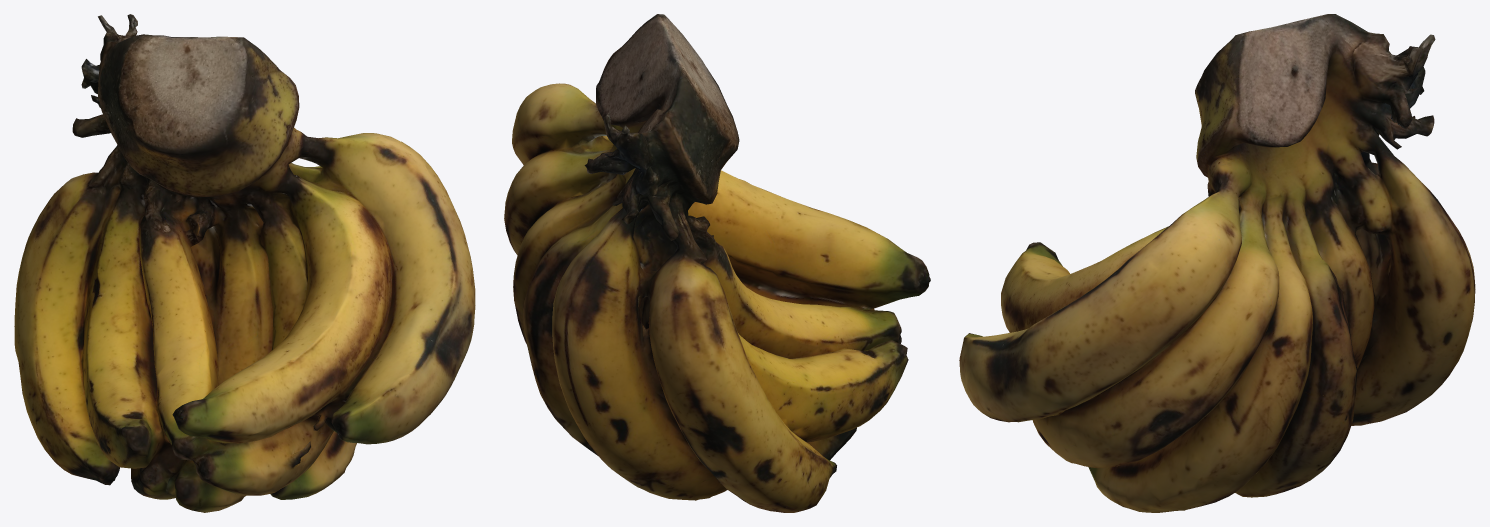
Rendered from banana.glb.
3 renders of one model, left to right at view 1: azimuth 30°, elevation 25°; view 2: azimuth 150°, elevation 25°; view 3: azimuth 270°, elevation 25°, orthographic. The views are drawn at different scales.
Visible parts, largest first — view 1: Banana Bunch.001; view 2: Banana Bunch.001; view 3: Banana Bunch.001.
Boxes of the visible parts, x1=… form: Banana Bunch.001: x1=14, y1=14, x2=475, y2=512; Banana Bunch.001: x1=504, y1=14, x2=930, y2=512; Banana Bunch.001: x1=959, y1=14, x2=1475, y2=512.
Size of the model in its own units: 1.09 by 1.3 by 1.31.
Materials: 1 (1 with a texture image).
